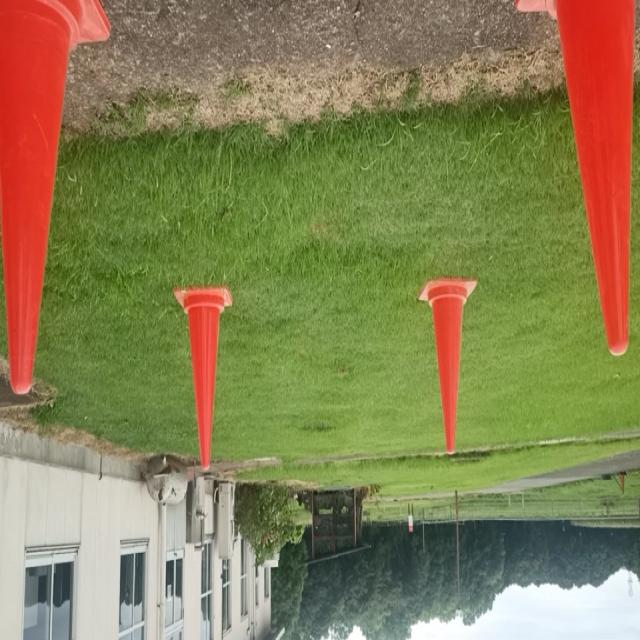cone: (542, 2, 632, 365), (2, 4, 72, 420), (165, 269, 235, 502), (416, 262, 488, 469)
